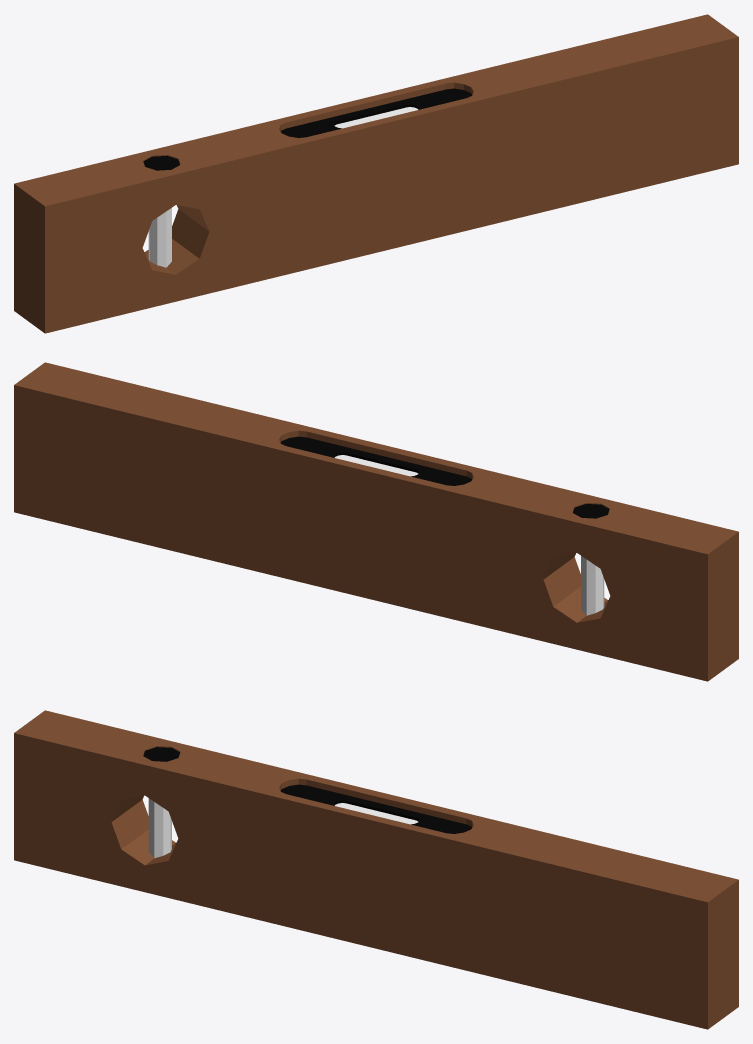
The model's file is leveling01.gltf.
3 renders of one model, top to bottom at view 1: azimuth 30°, elevation 25°; view 2: azimuth 150°, elevation 25°; view 3: azimuth 330°, elevation 25°, orthographic.
Visible parts, largest first — view 1: Cube; view 2: Cube; view 3: Cube.
Part boxes in pixels (x1,y1,x2,y2): Cube: (14, 14, 738, 333); Cube: (14, 362, 738, 681); Cube: (14, 710, 738, 1029).
Size of the model in its own units: 0.2267 by 0.0397 by 0.0176.
1 material, 1 textured.
